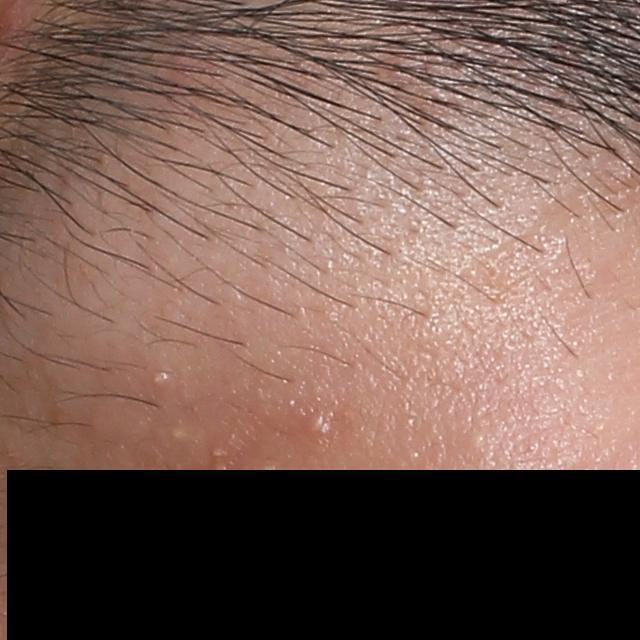other: (304, 409, 336, 444), (147, 365, 174, 391), (165, 422, 191, 446)
